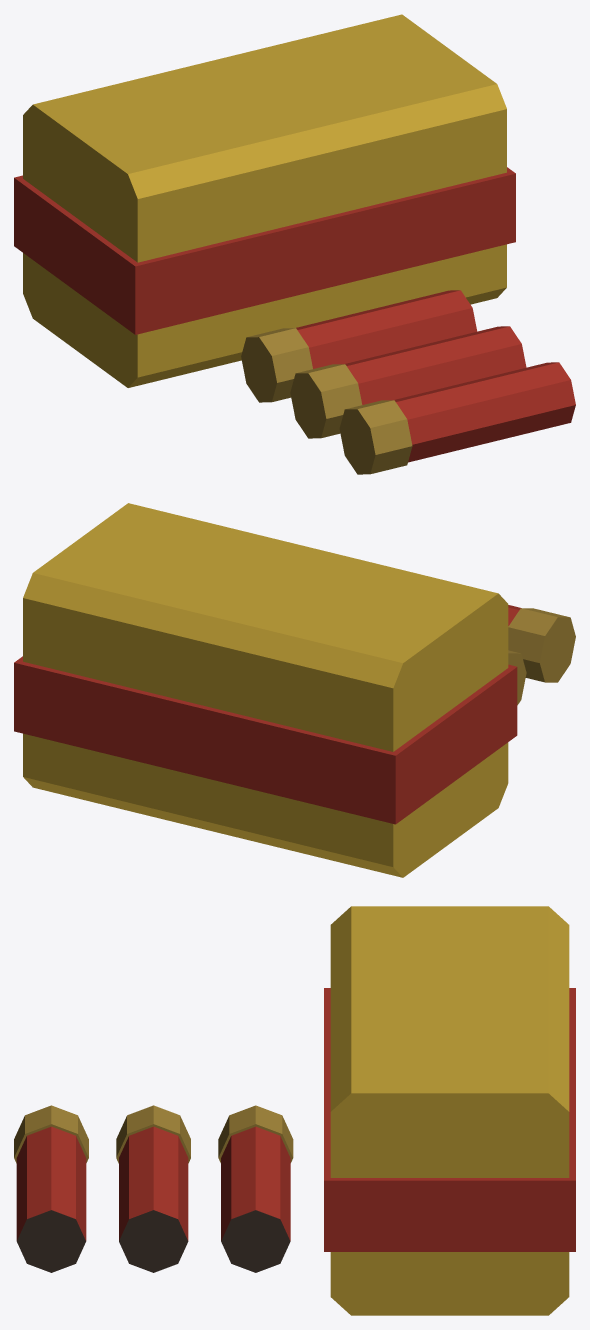
The model's file is ammo_box_shells.glb.
3 views of the same model, one above another, from view 1: azimuth 30°, elevation 25°; view 2: azimuth 150°, elevation 25°; view 3: azimuth 270°, elevation 25° (orthographic). The views are drawn at different scales.
Parts seen in each view (by area): view 1: Item; view 2: Item; view 3: Item.
Part boxes in pixels (box(x1,y1,x2,y2)): Item: box(14, 14, 575, 474); Item: box(14, 503, 575, 877); Item: box(14, 906, 575, 1315).
Bounding box in the file's own units: 0.1742 × 0.0942 × 0.2145.
